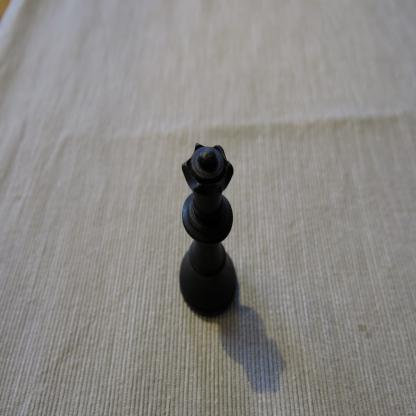black-queen: (178, 141, 238, 318)
